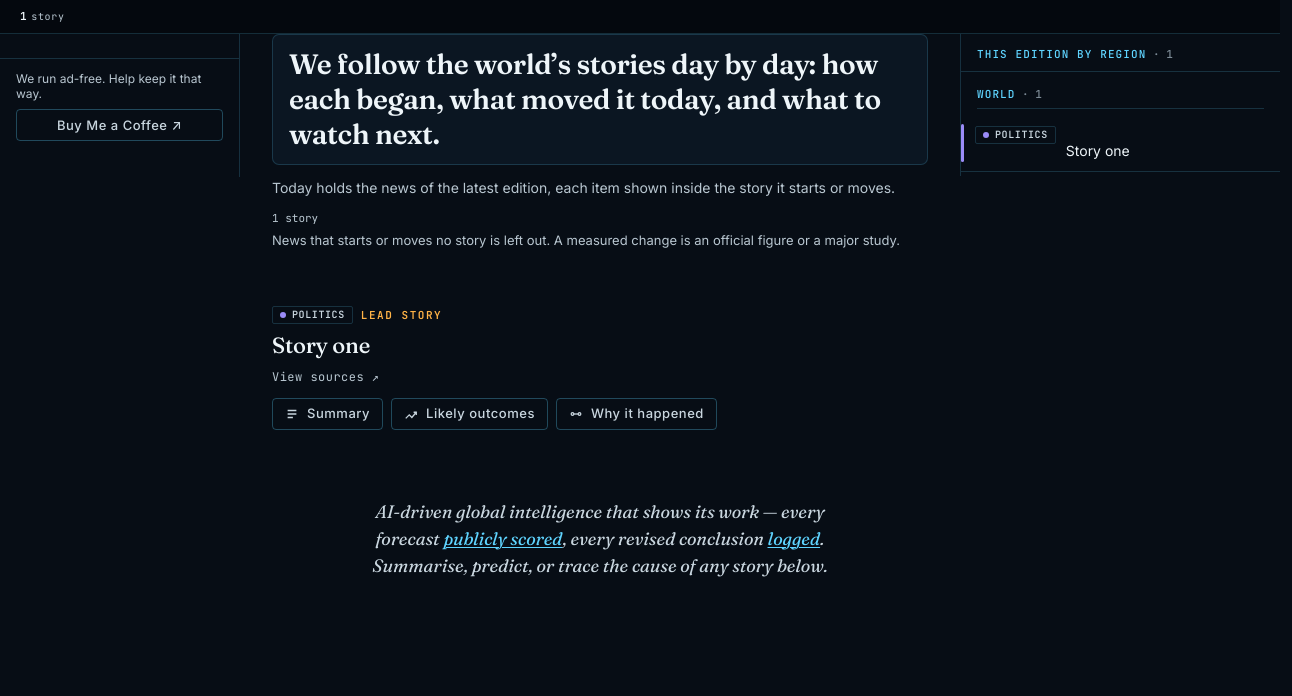
/today failure states › story AI failures: Summary / Prediction / Trace cause each fail in place with Retry
Click the button "Summary": (328, 414) [272,398,383,430]
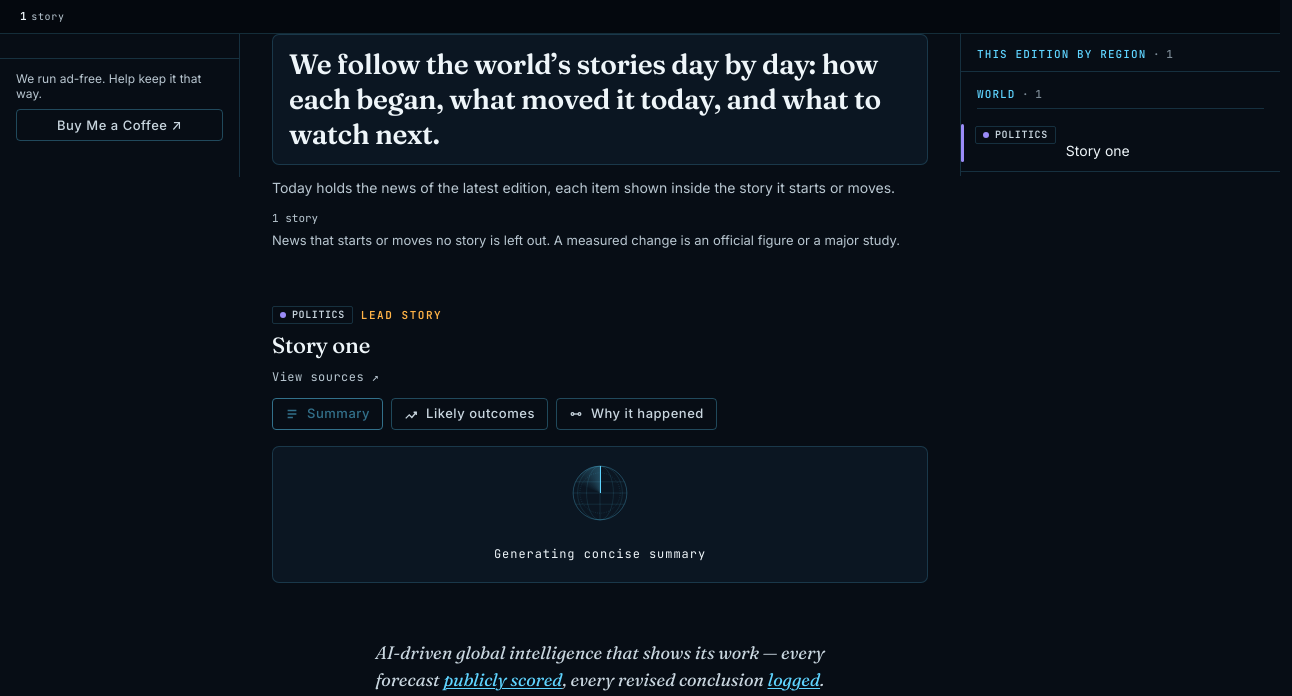
Click the button "Likely outcomes": (469, 414) [391,398,548,430]
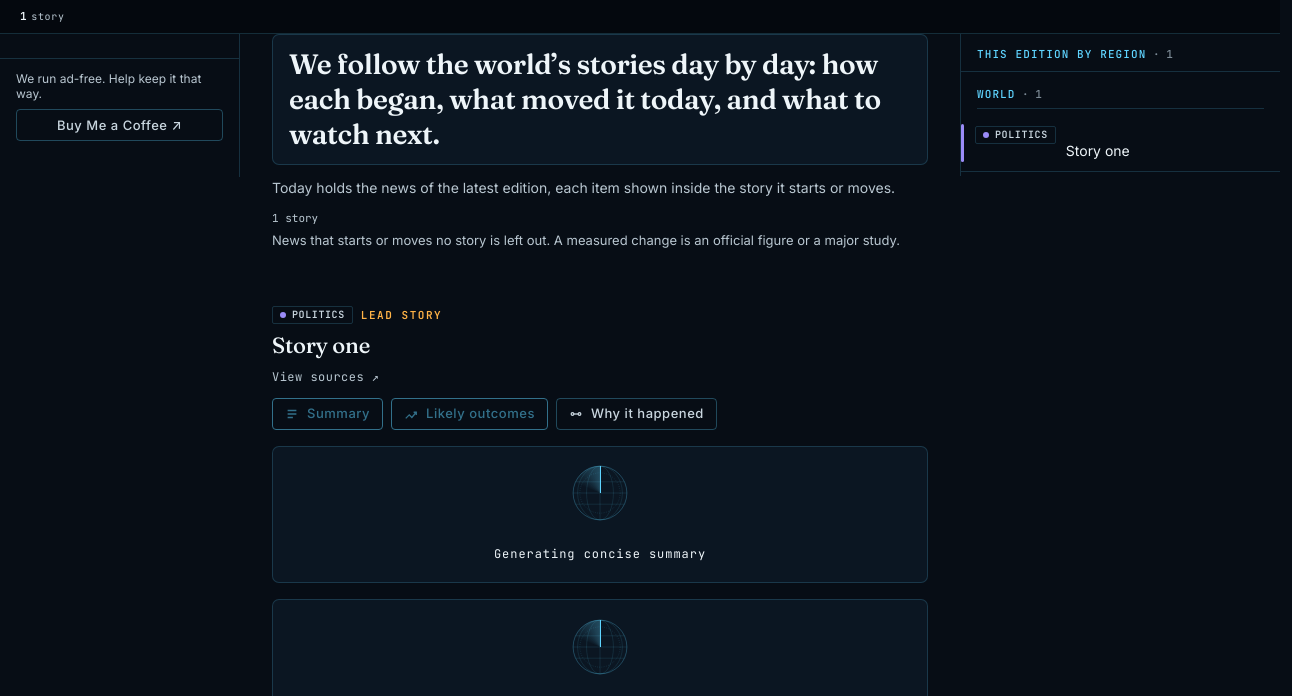
Click the button "Why it happened": (636, 414) [556,398,717,430]
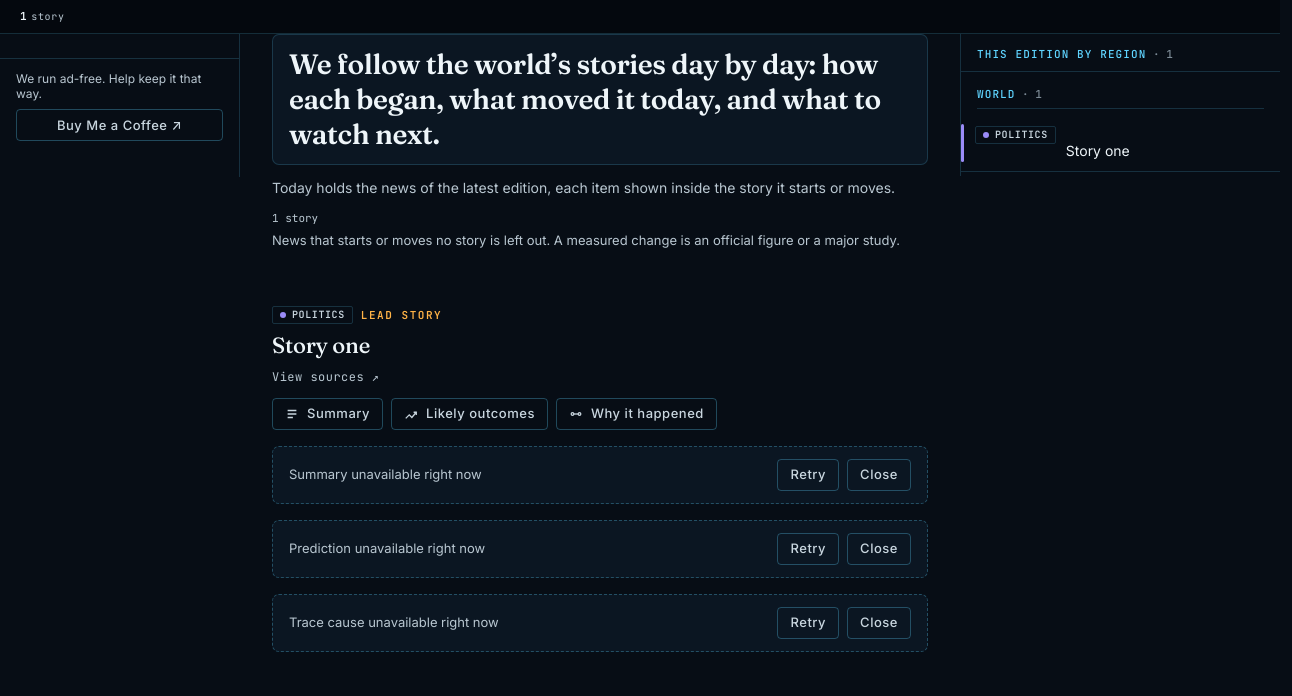
Now the text "Summary unavailable right now" is shown, box [289,465,482,484]
Now the text "Prediction unavailable right now" is shown, box [289,539,485,558]
Now the text "Trace cause unavailable right now" is shown, box [289,613,499,632]
